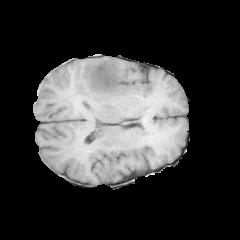glioma: (73, 63, 124, 105)
